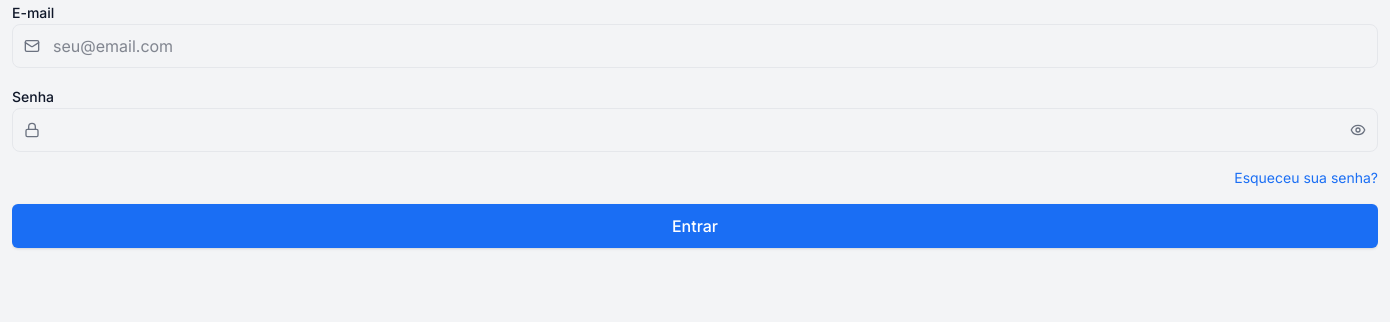
auth forms › blocks login submission until email and password are valid
What coordinates should you click on to do the following:
click the button "Entrar"
I would click on:
 (695, 226)
Its box is top-left (12, 204), bottom-right (1378, 248).
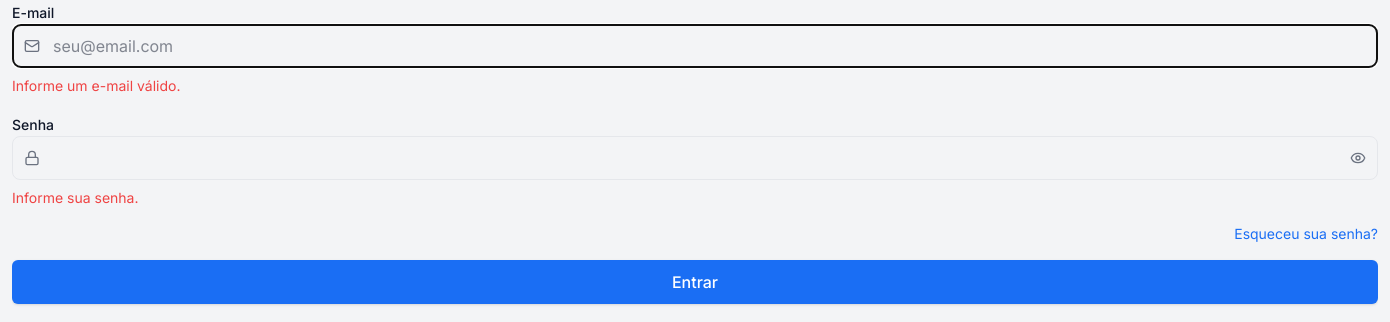
Expected: the text "Informe um e-mail válido." is shown, top-left (12, 77), bottom-right (180, 94)
